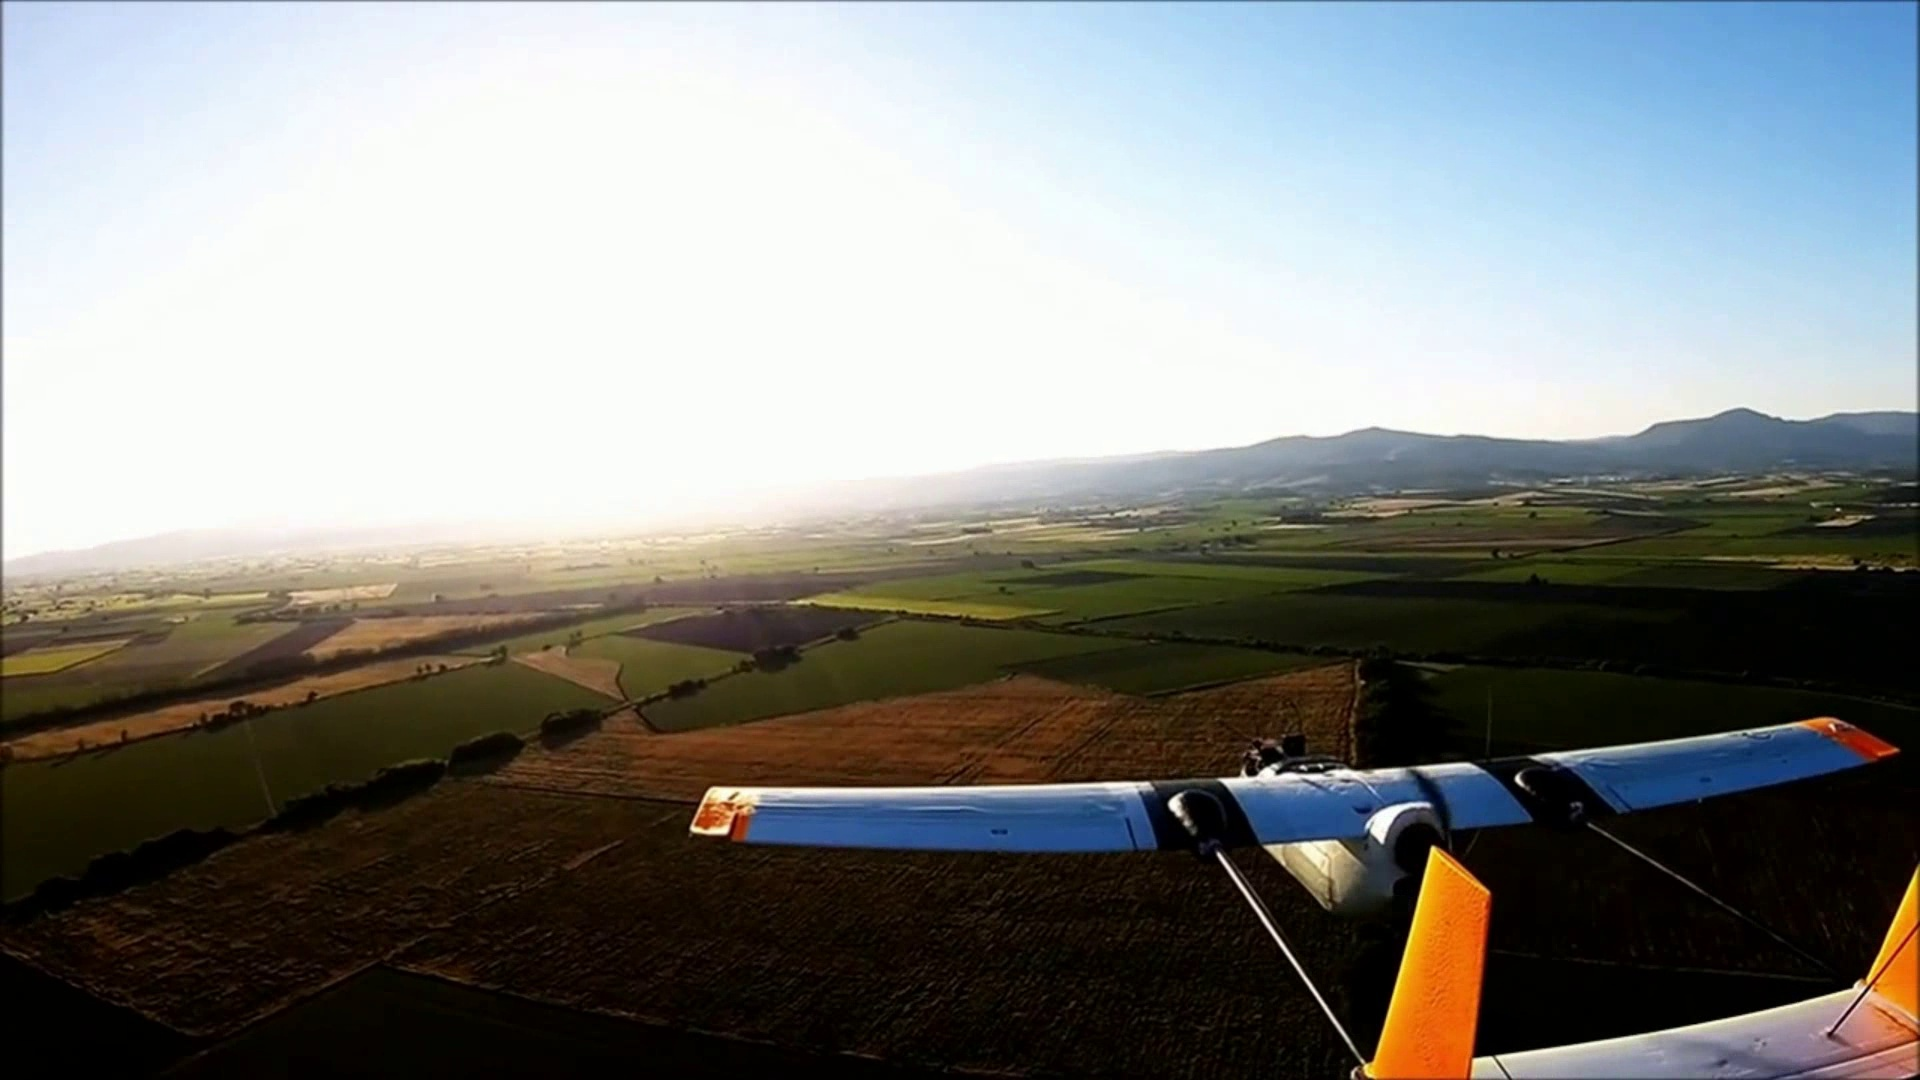airplane: (684, 717, 1916, 1071)
